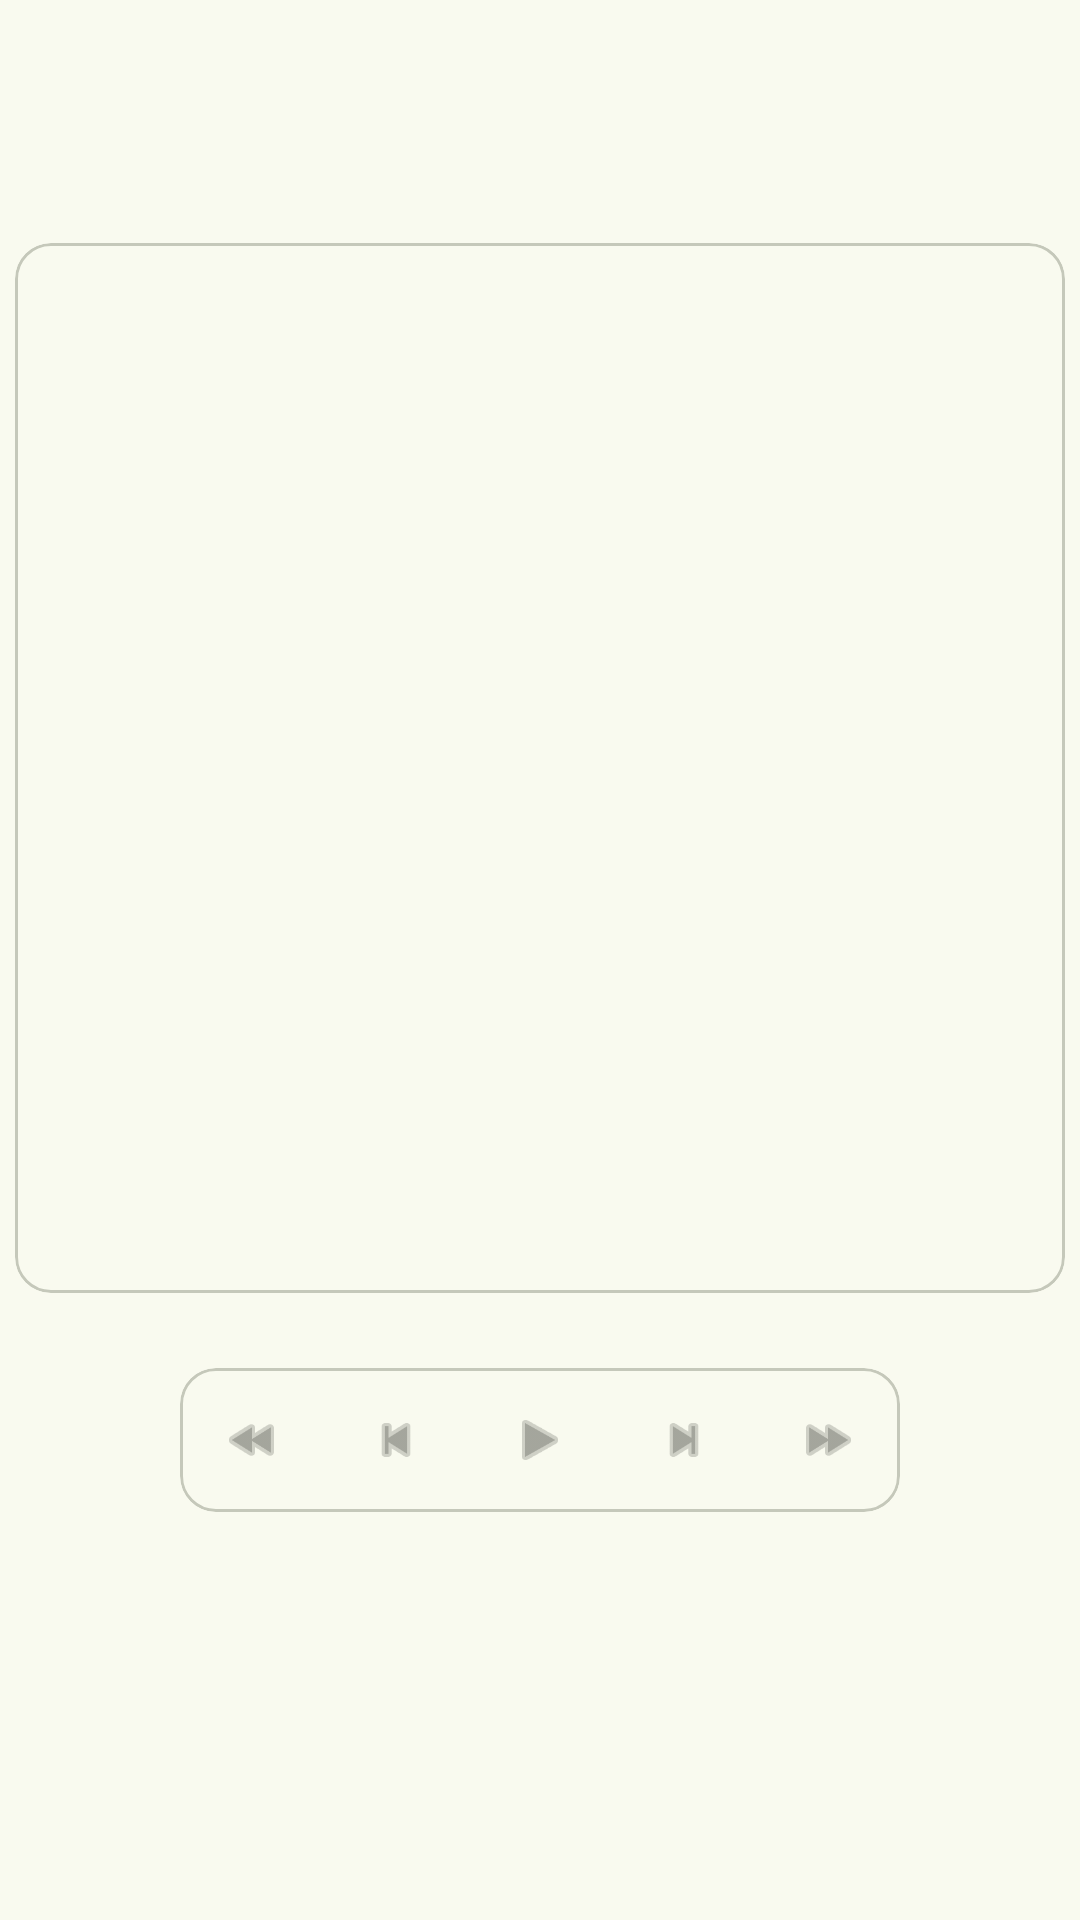

Named icons in this screenshot (1080x1920) and their centers, (x,y):
Next: (684,1440)
Play: (540,1440)
Previous: (396,1440)
Skip to beginning: (252,1440)
Skip to end: (828,1440)
